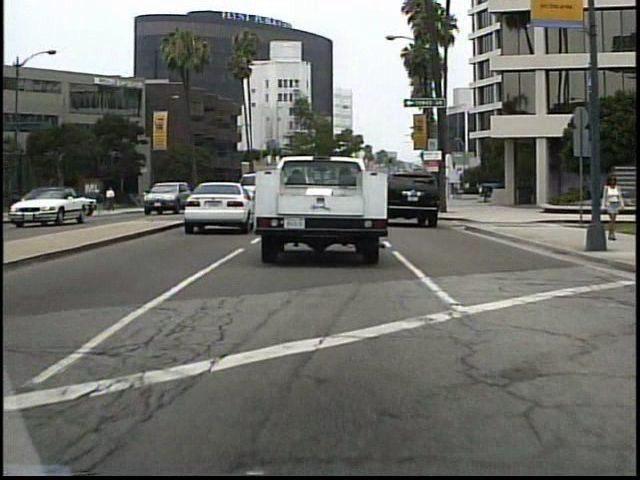person: (599, 170, 625, 245), (107, 185, 119, 214), (98, 188, 105, 213), (145, 185, 149, 209)
